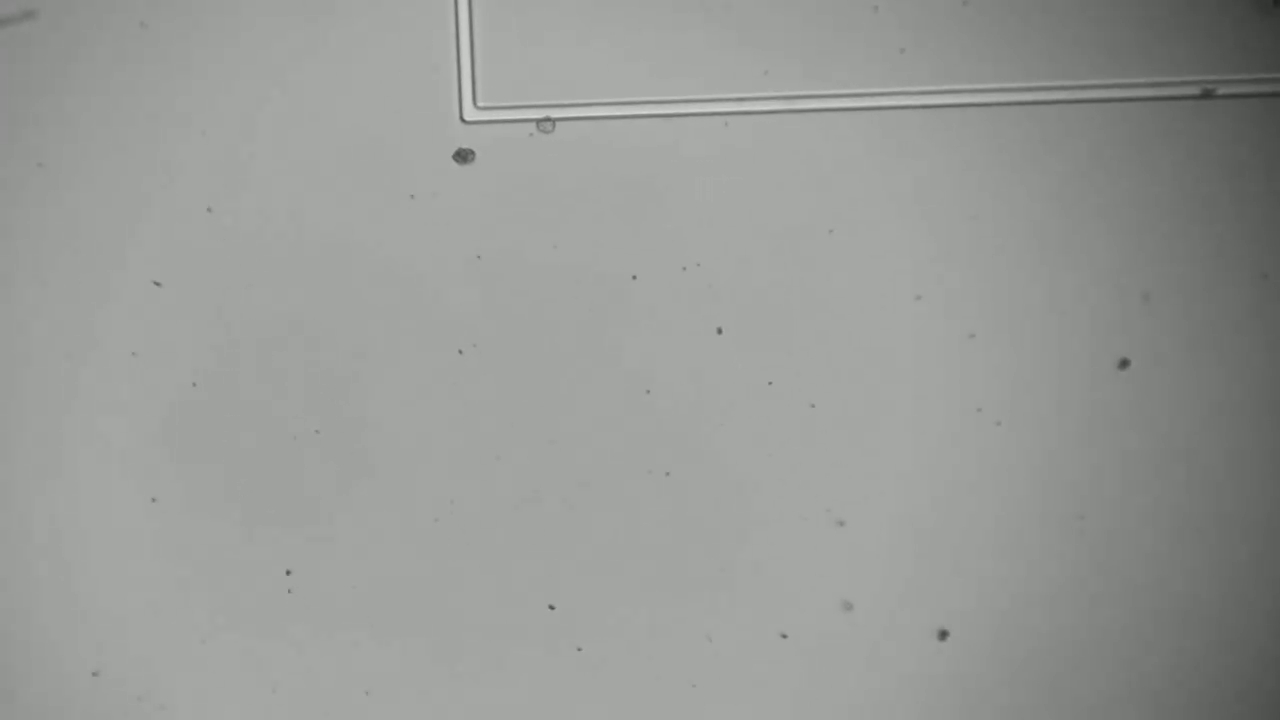stains_enbedded: (1190, 67, 1229, 103)
